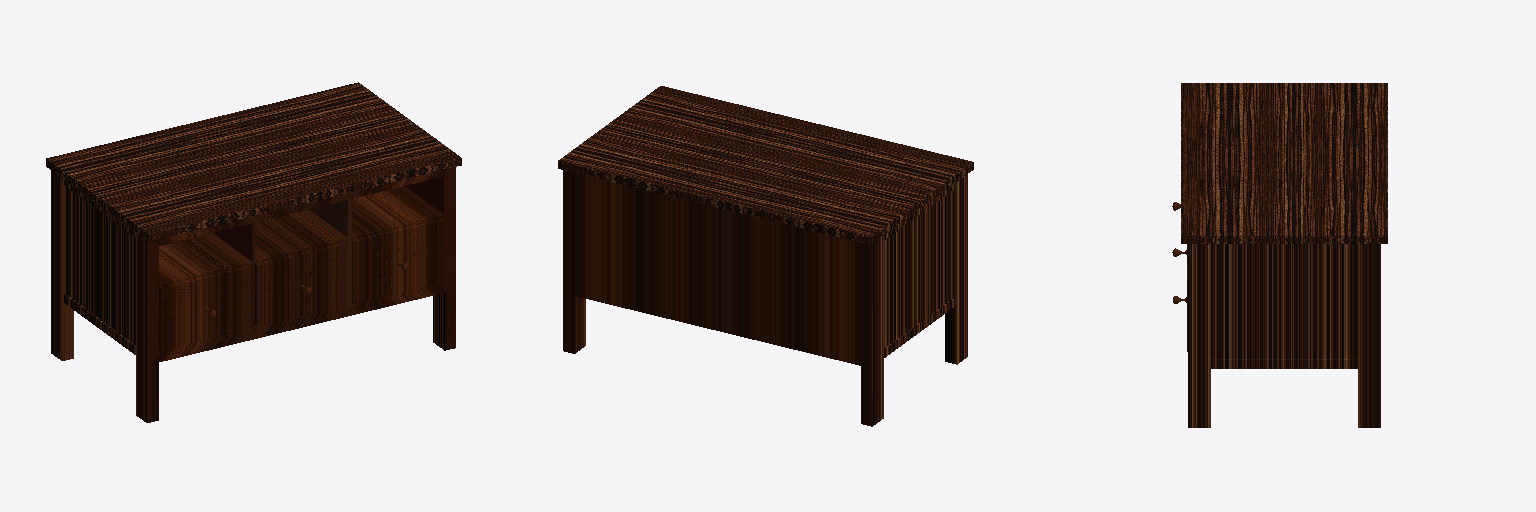
The picture shows the model from 3 angles: view 1: azimuth 30°, elevation 25°; view 2: azimuth 150°, elevation 25°; view 3: azimuth 270°, elevation 25°; orthographic projection.
Parts seen in each view (by area): view 1: Mesa; view 2: Mesa; view 3: Mesa.
Boxes of the visible parts, box(x1,y1,x2,y2) form: Mesa: box(46, 82, 461, 422); Mesa: box(558, 86, 973, 426); Mesa: box(1172, 83, 1387, 427).
Size of the model in its own units: 1.82 by 1.07 by 1.08.
Materials: 2 (1 with a texture image).